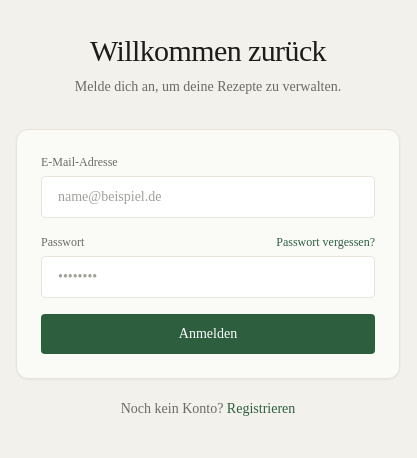
Test: LoginForm (login page) › shows the rate-limit message on 'Too many requests'
Type "u@example.com" into the field labelled "E-Mail-Adresse" at (208, 197), box [41,176,375,218]
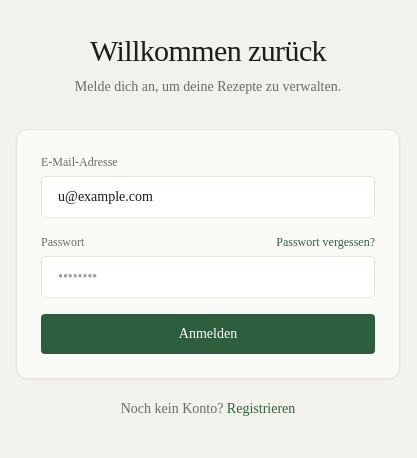
Type "secret123" into the password field labelled "Passwort" at (208, 277), box [41,256,375,298]
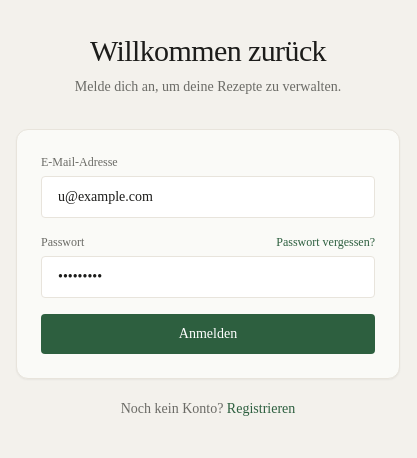
Click the button "Anmelden" at (208, 334), box [41,314,375,354]
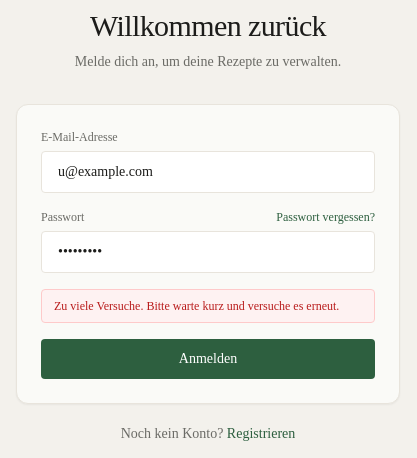
Result: the message shows "Zu viele Versuche" at [54,299,339,313]
